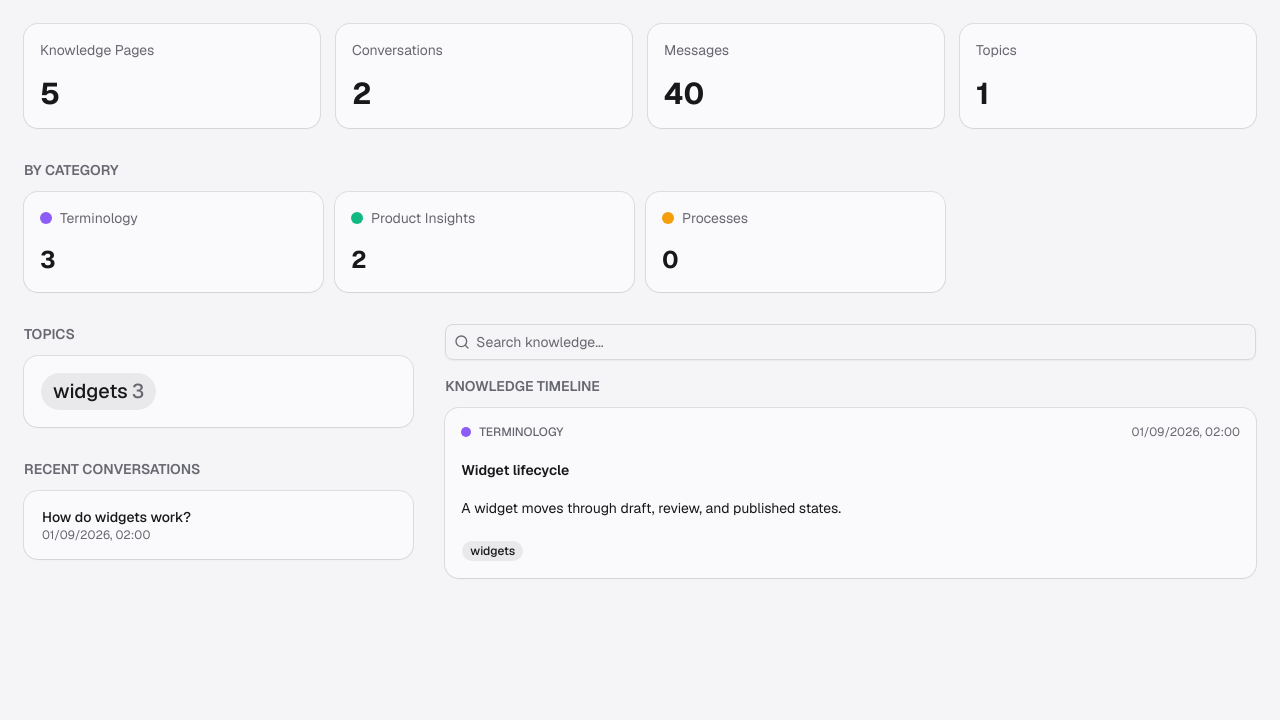
Test case: KnowledgeDashboard › typing in the search box debounces and refetches from the search endpoint
Expected: the heading "Widget lifecycle" is shown, [461,461,569,479]
In the field labelled "Search knowledge": (863, 342) [470,324,1255,360], type "pricing"
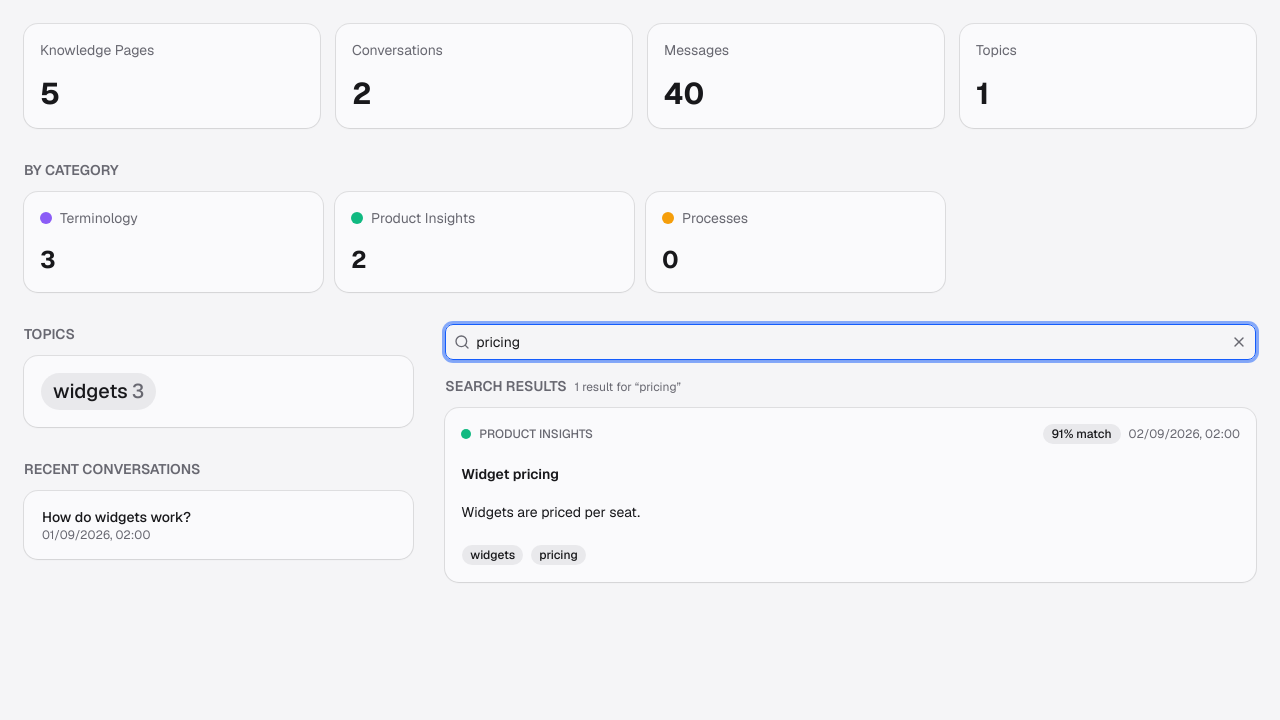
Expected: the heading "Widget pricing" is shown, [461,465,559,483]
